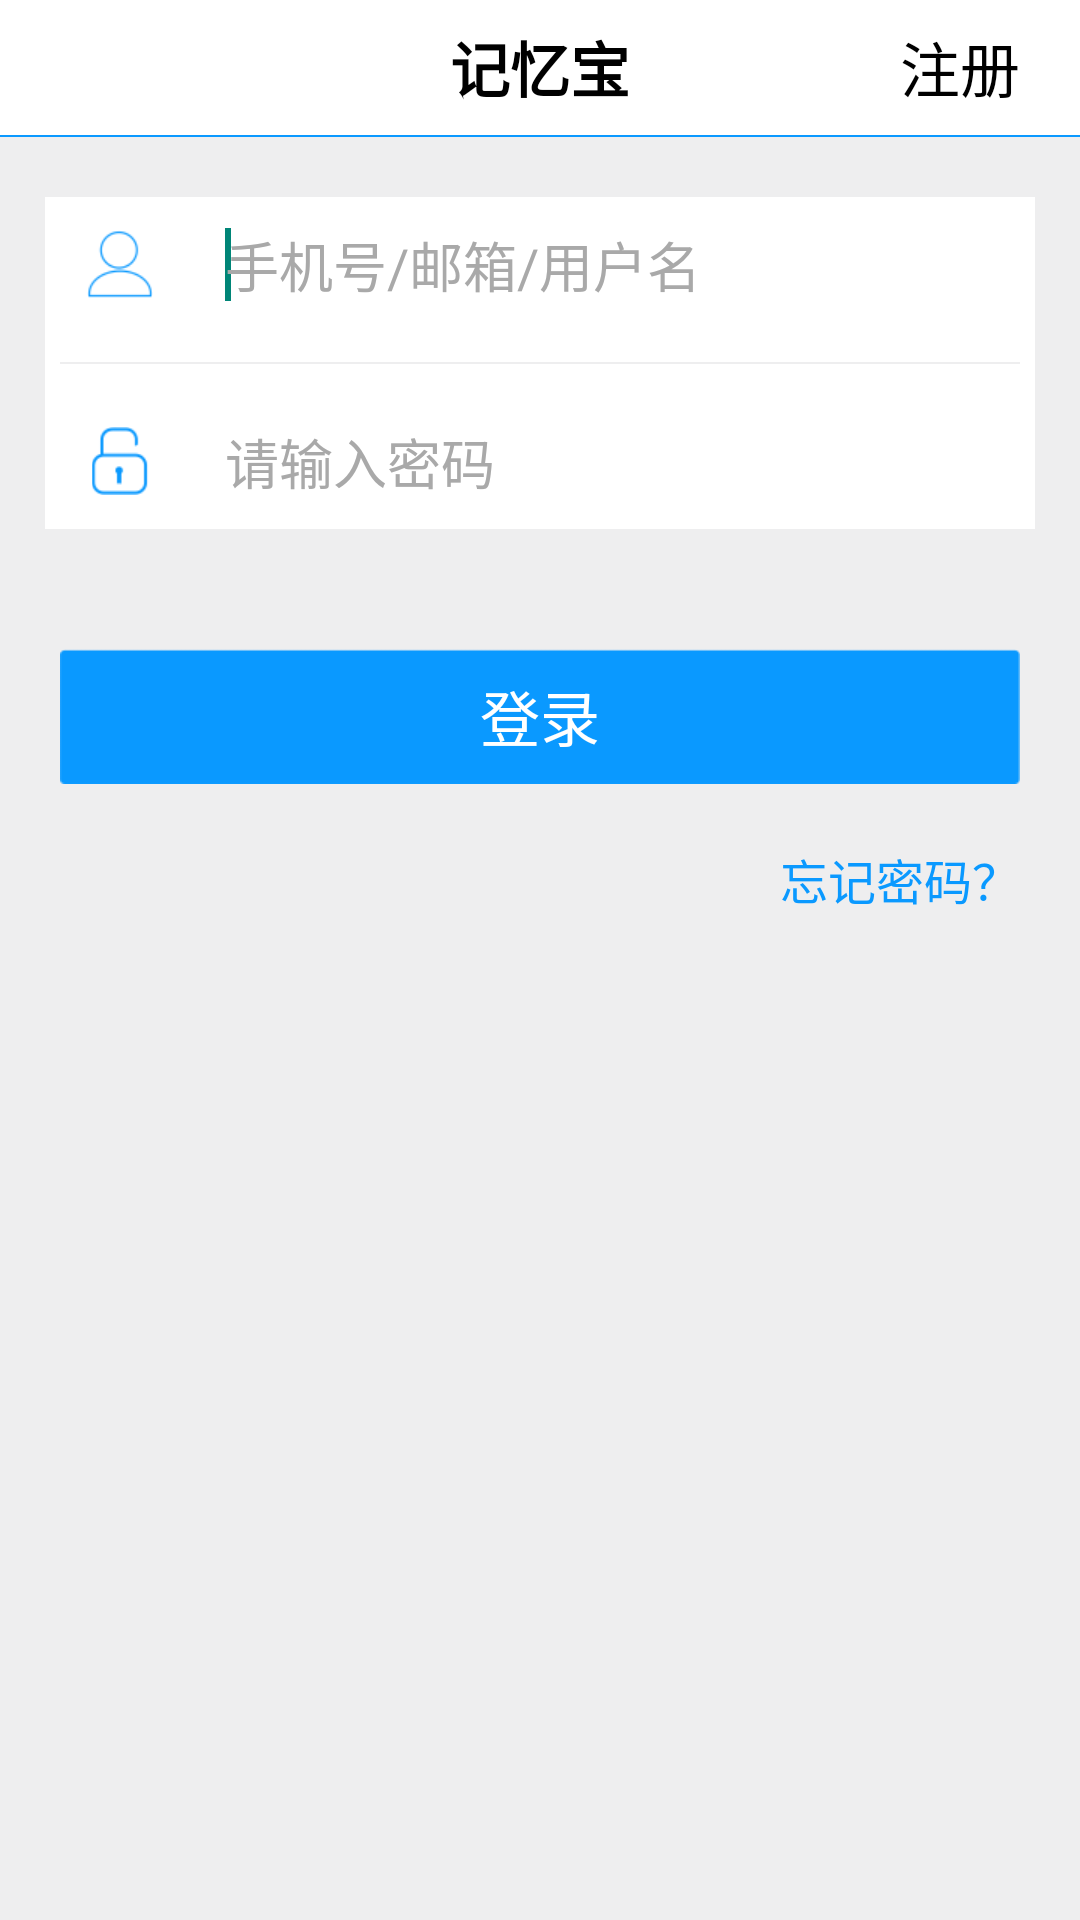

Point at icon controls on the screen. Image size 1080 × 1920, points as point (x, y).
login password: point (120, 461)
login username: point (120, 264)
